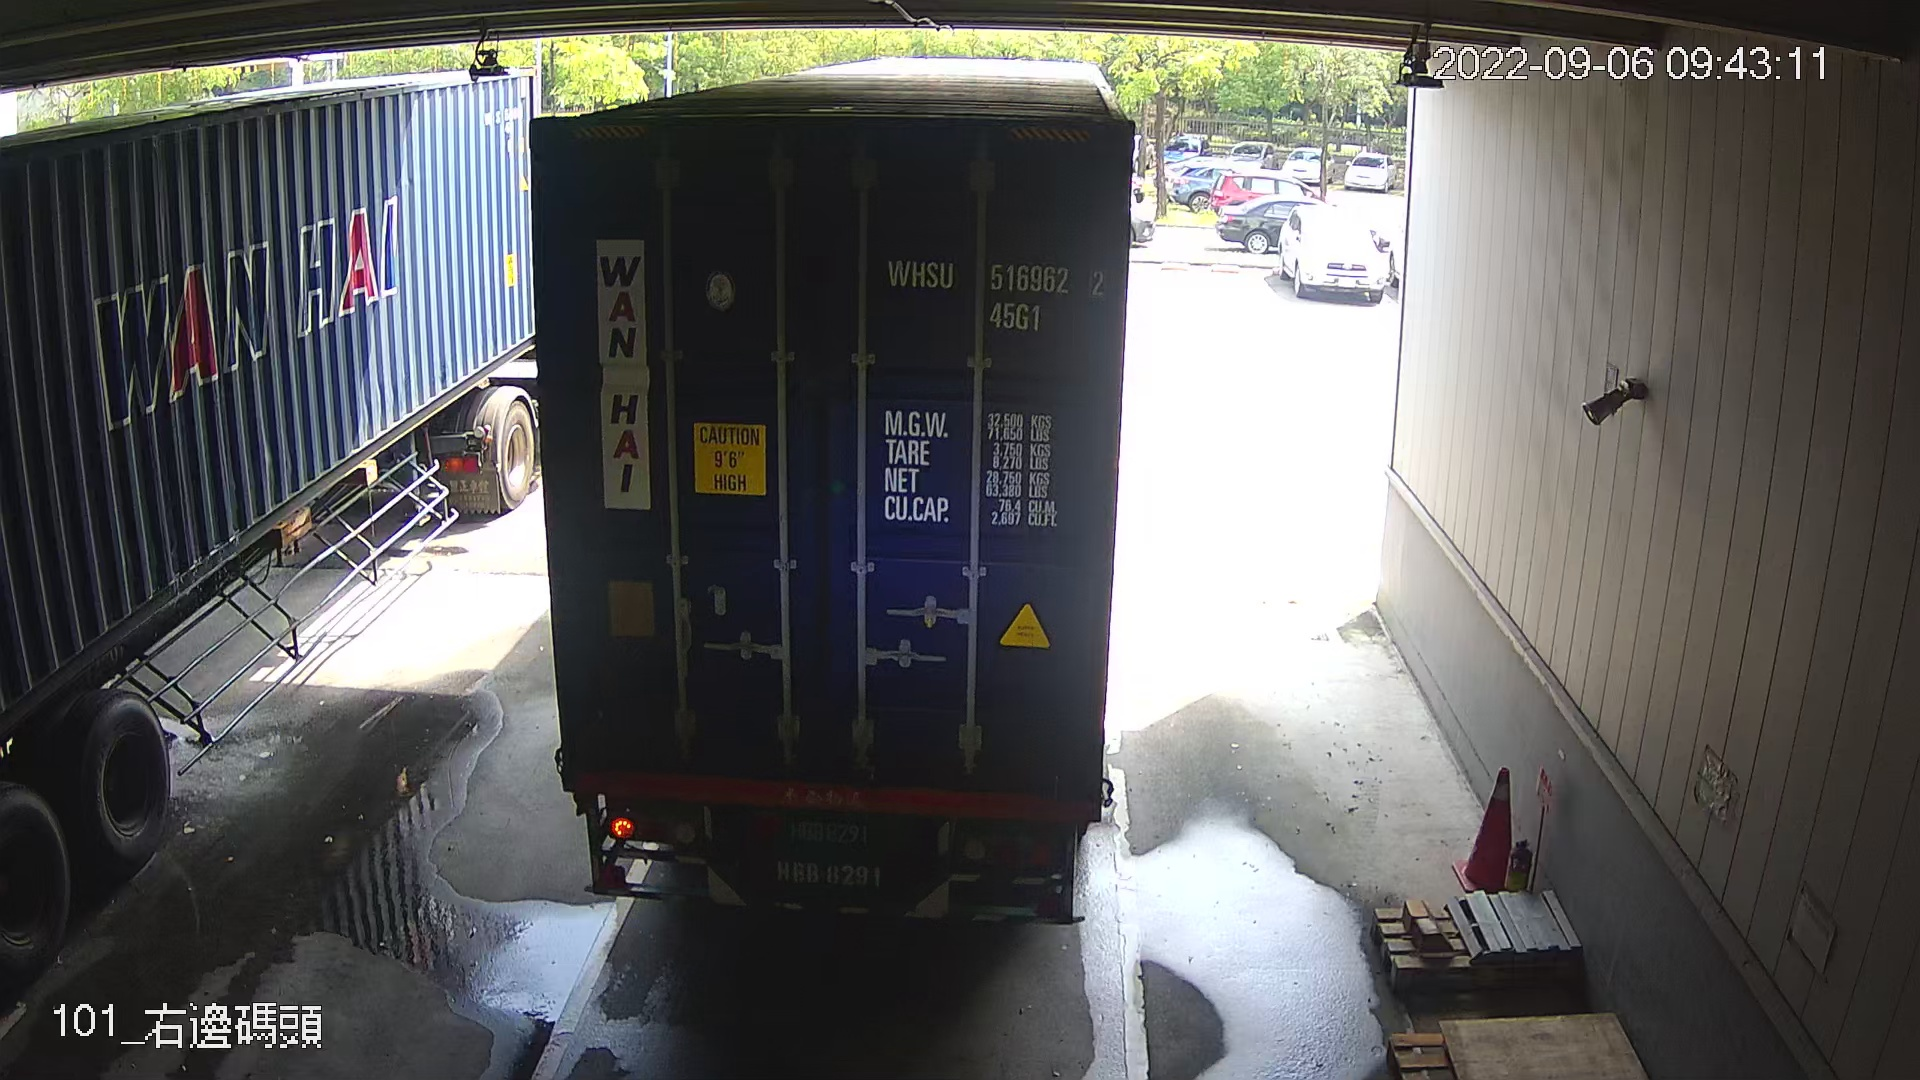container: (876, 249, 1113, 339)
